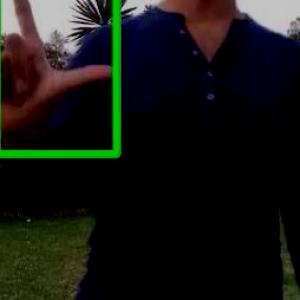land_hand: (0, 0, 121, 141)
